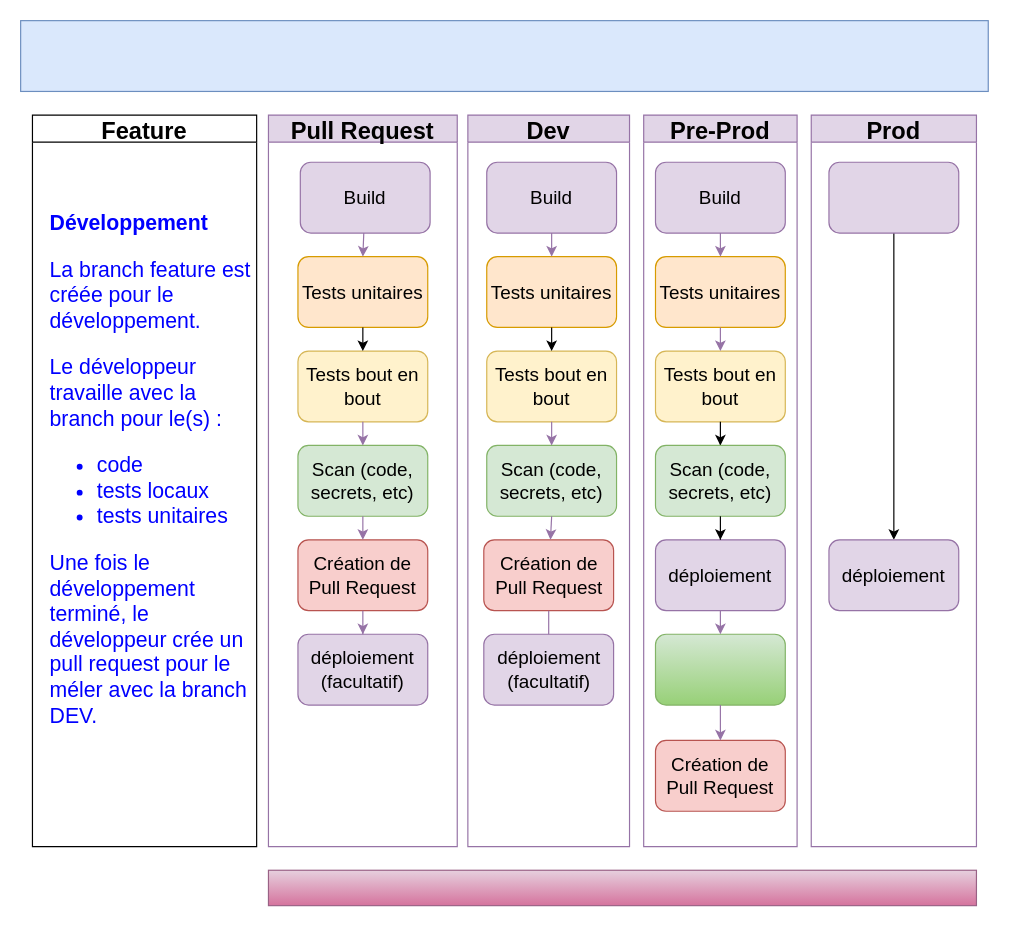
This 1009x926 diagram has some shape labels left out. The centre of each missing label's shape, as x and y in pixels:
Example de workflow CD-CI (Branch et actions liés aux pipelines): the point at 503,55
Pipelines: the point at 621,887
Tests d'acceptation: the point at 719,669
Versionnage de l'artefact à livrer: the point at 893,197
